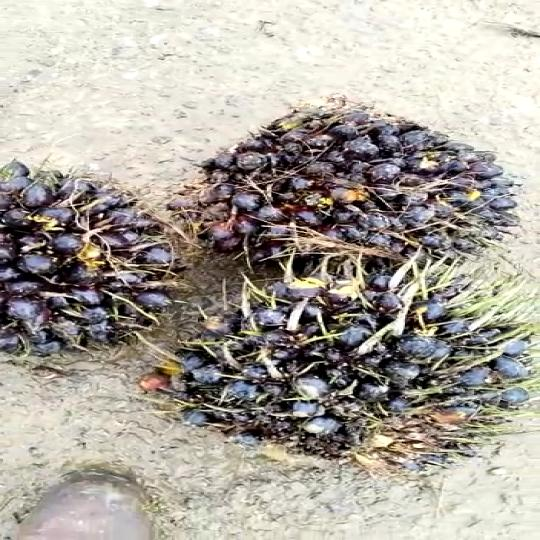mentah: (162, 266, 535, 476), (182, 90, 540, 269), (0, 164, 201, 358)
